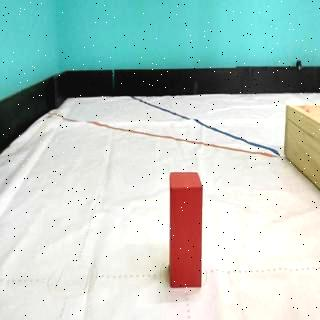redbox: (170, 172, 203, 288)
